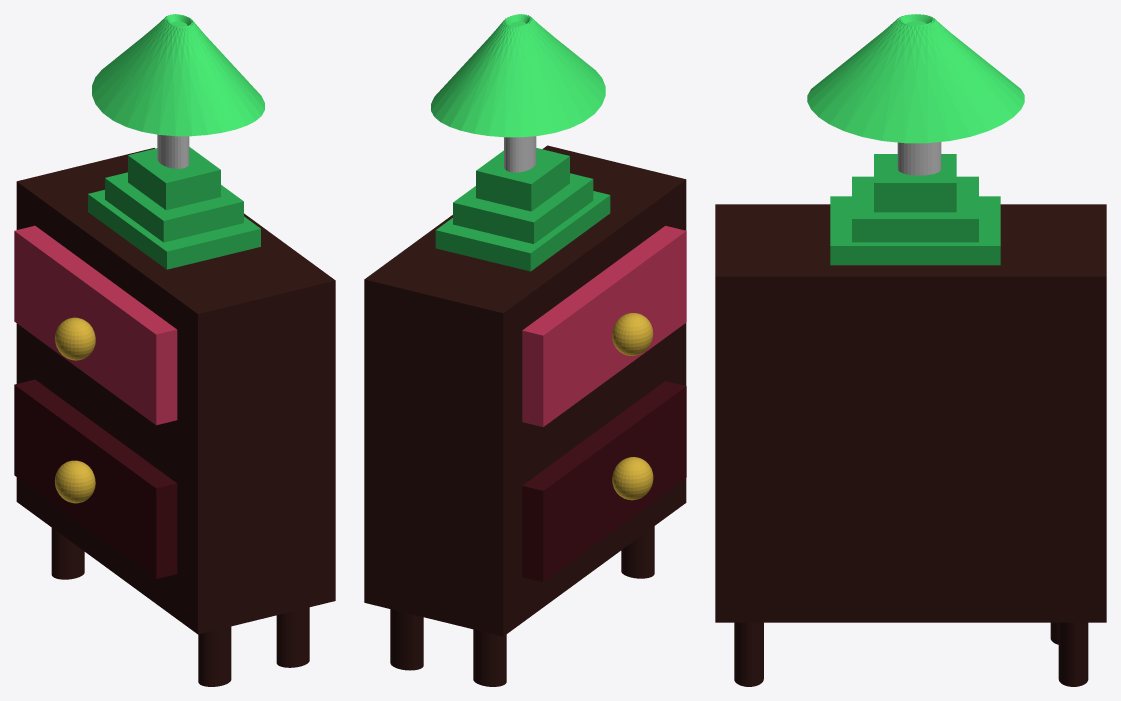
Rendered from lamp_green.fbx.
3 renders of one model, left to right at view 1: azimuth 30°, elevation 25°; view 2: azimuth 150°, elevation 25°; view 3: azimuth 270°, elevation 25°, orthographic. The views are drawn at different scales.
Parts seen in each view (by area): view 1: Cube.011; view 2: Cube.011; view 3: Cube.011.
Part boxes in pixels (x1=…): Cube.011: x1=14, y1=14, x2=335, y2=686; Cube.011: x1=364, y1=14, x2=686, y2=686; Cube.011: x1=715, y1=14, x2=1106, y2=686.
Size of the model in its own units: 1.28 by 3.7 by 2.05.
